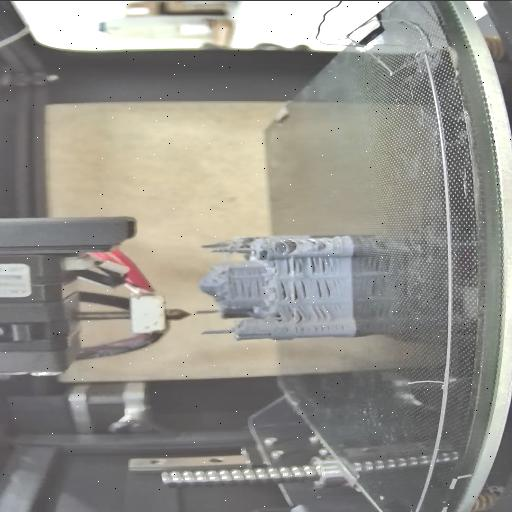cracks: (282, 256, 336, 274), (278, 277, 306, 299), (280, 323, 348, 332), (233, 276, 262, 296), (313, 278, 339, 297), (282, 306, 308, 324), (308, 304, 334, 322), (278, 239, 301, 251), (304, 237, 326, 249)
